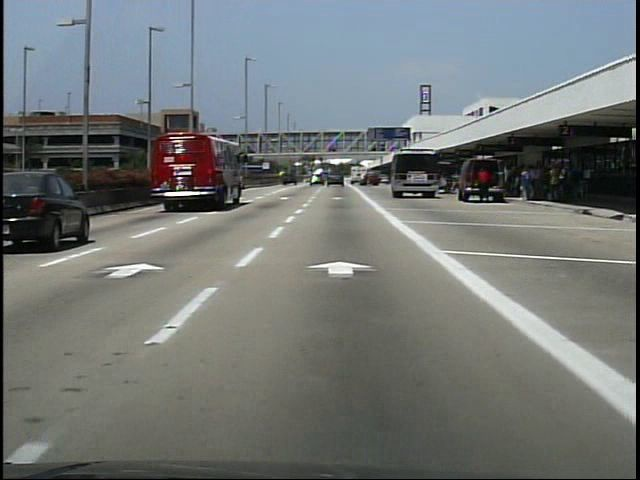person: (477, 164, 494, 205)
